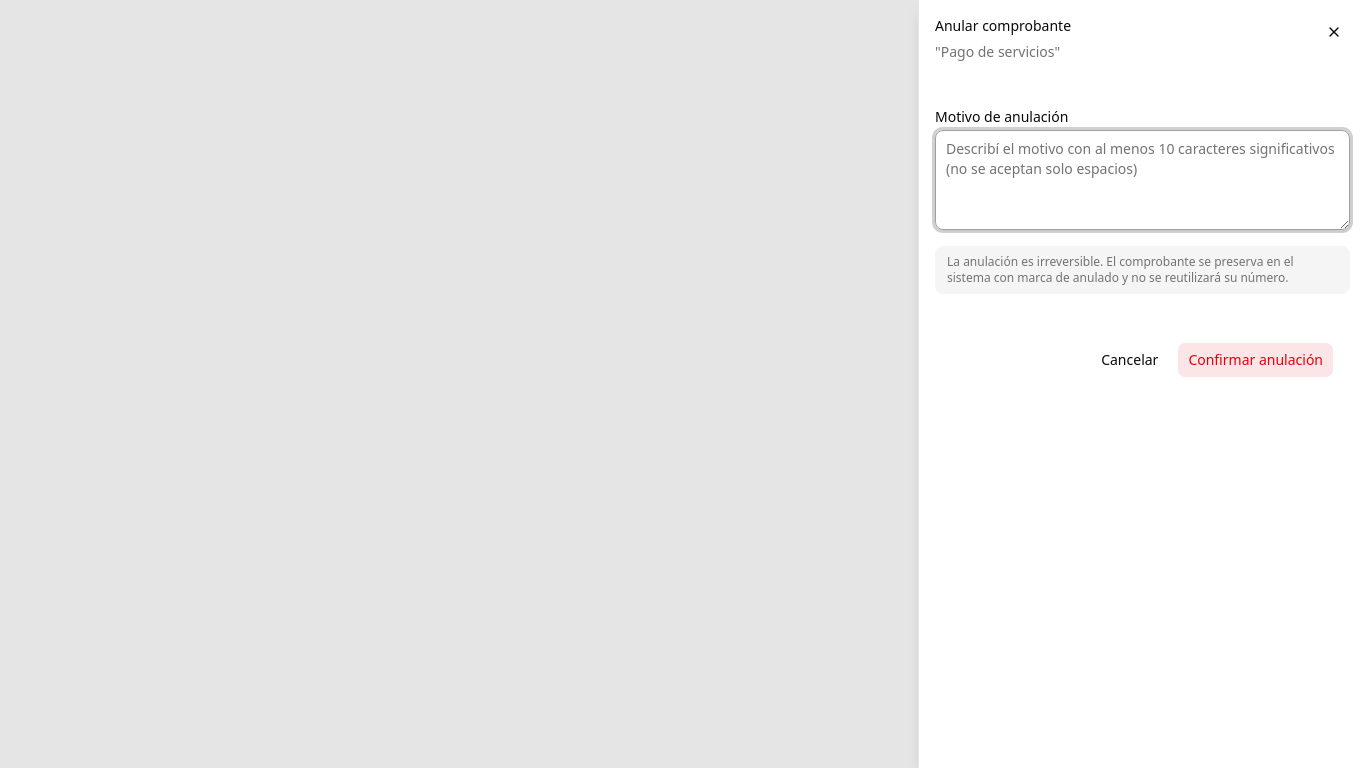
Test case: AnularComprobanteSheet › motivo corto → muestra error inline ANTES del submit
The image size is (1366, 768).
Type "corto" into the text box labelled "Motivo de anulación" at (1142, 180), box x1=935 y1=130 x2=1350 y2=230
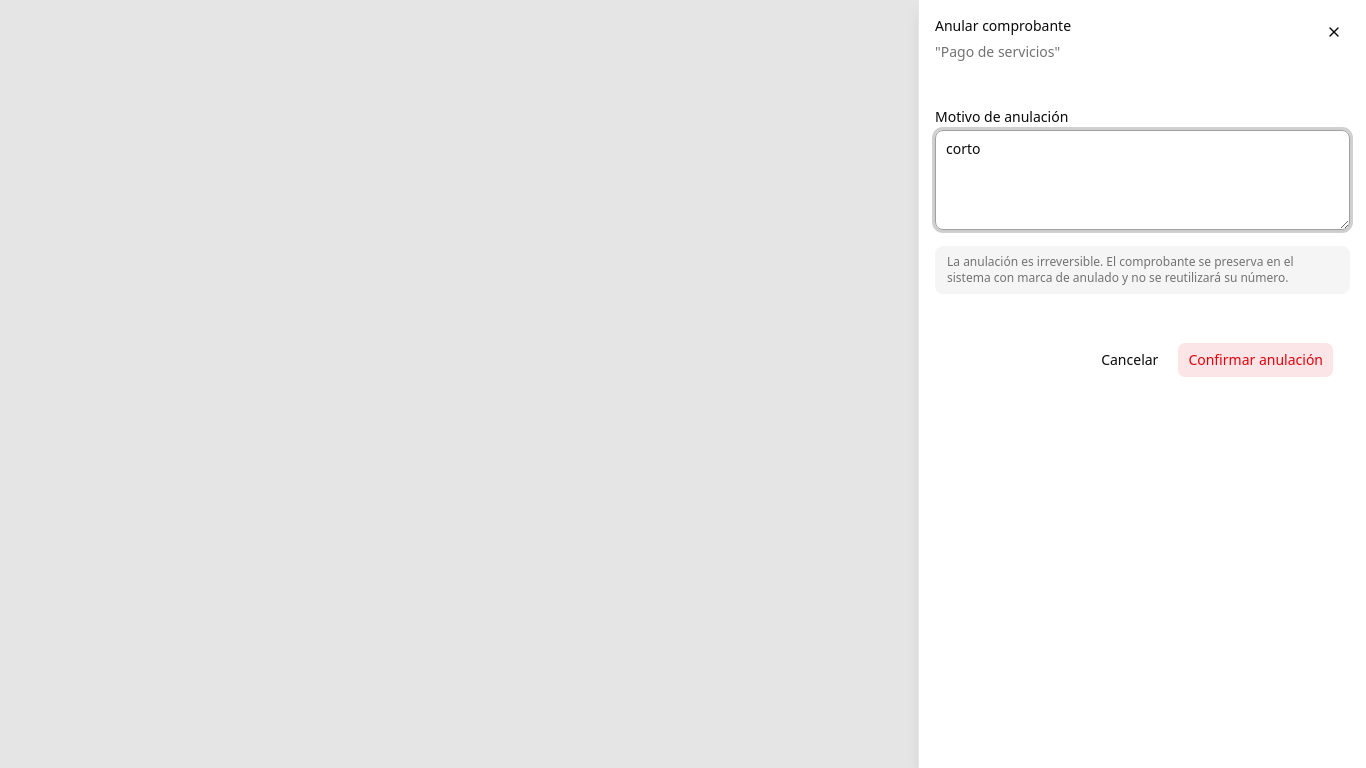
Click the button "Confirmar anulación" at (1256, 360), box x1=1177 y1=342 x2=1334 y2=378
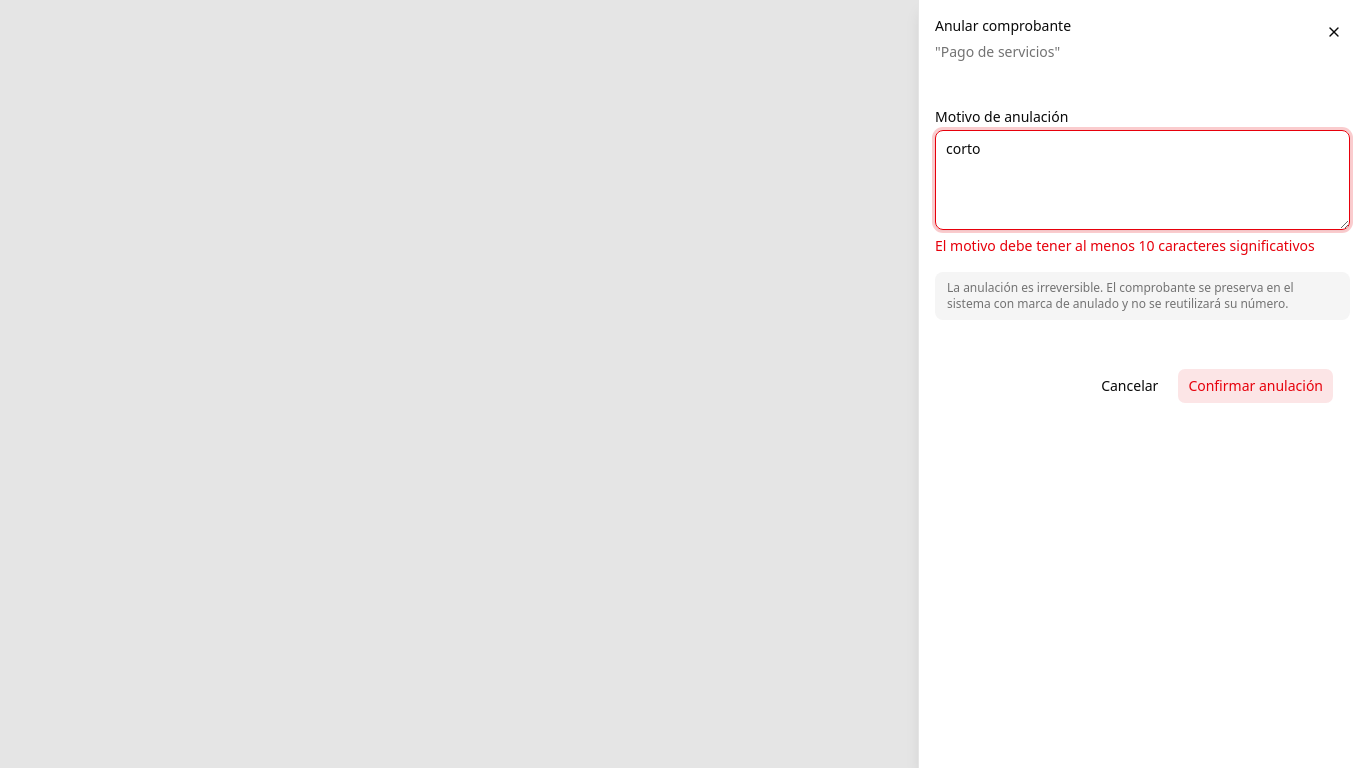
Result: the text "El motivo debe tener al menos 10 caracteres significativos" is shown at x1=935 y1=236 x2=1350 y2=256
